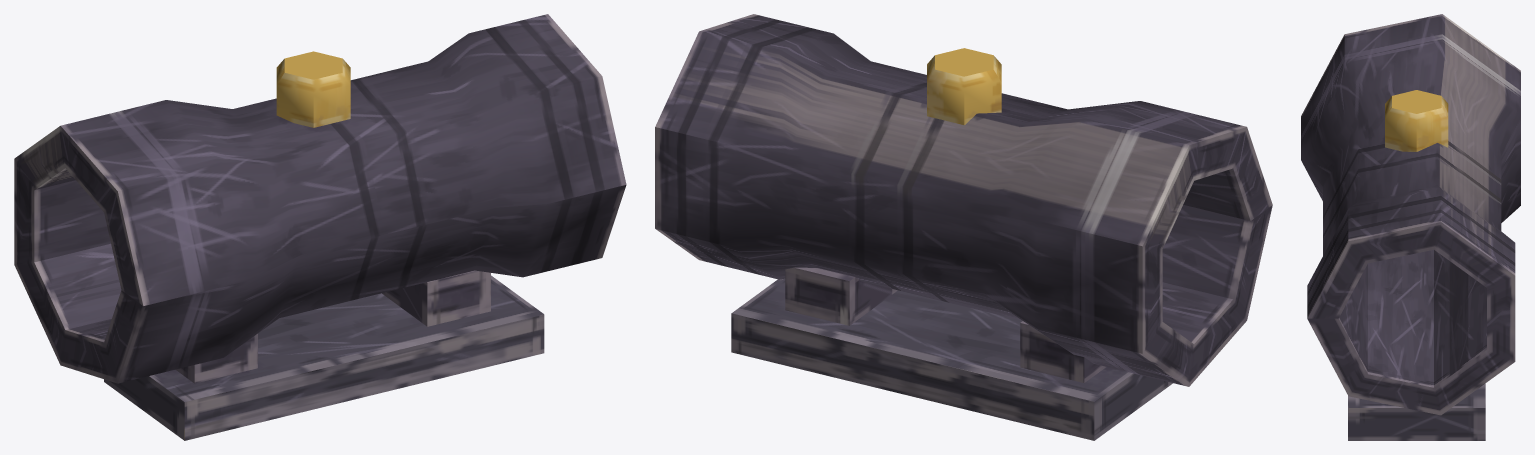
Rendered from att_scope_low.fbx.
3 renders of one model, left to right at view 1: azimuth 30°, elevation 25°; view 2: azimuth 150°, elevation 25°; view 3: azimuth 270°, elevation 25°, orthographic. The views are drawn at different scales.
Parts seen in each view (by area): view 1: att_scope; view 2: att_scope; view 3: att_scope.
Boxes of the visible parts, left/top/right/bottom form: att_scope: left=14, top=14, right=626, bottom=440; att_scope: left=655, top=14, right=1272, bottom=440; att_scope: left=1301, top=14, right=1520, bottom=440.
Bounding box in the file's own units: 0.345 × 0.2063 × 0.1583.
Materials: 1 (1 with a texture image).
